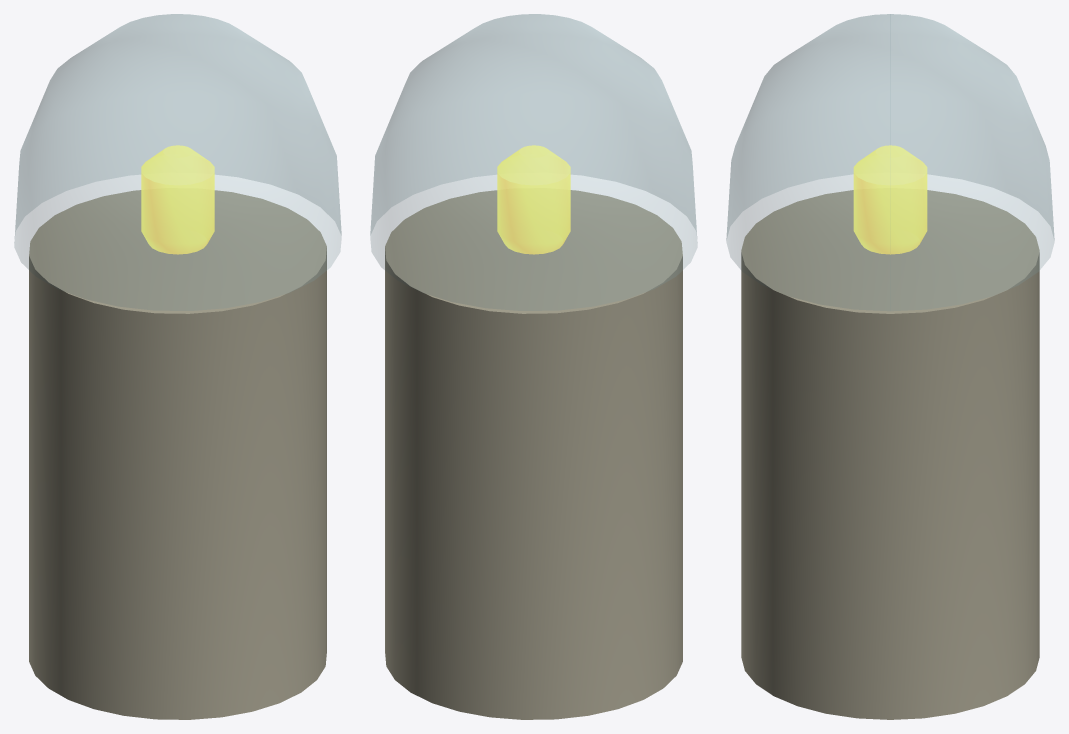
The model's file is mall-perfume-dome.glb.
The picture shows the model from 3 angles, left to right: view 1: azimuth 30°, elevation 25°; view 2: azimuth 150°, elevation 25°; view 3: azimuth 270°, elevation 25°; orthographic projection.
Visible parts, largest first — view 1: stand__ceramic, dome__glass, amber-bottle__amber; view 2: stand__ceramic, dome__glass, amber-bottle__amber; view 3: stand__ceramic, dome__glass, amber-bottle__amber.
Part boxes in pixels (box(x1,y1,x2,y2)): stand__ceramic: box(29, 190, 326, 719); dome__glass: box(14, 14, 341, 310); amber-bottle__amber: box(141, 145, 214, 254); stand__ceramic: box(385, 190, 682, 719); dome__glass: box(370, 14, 697, 310); amber-bottle__amber: box(497, 145, 570, 254); stand__ceramic: box(741, 190, 1039, 719); dome__glass: box(726, 14, 1054, 310); amber-bottle__amber: box(853, 145, 927, 254).
Bounding box in the file's own units: 0.66 × 1.39 × 0.66.
